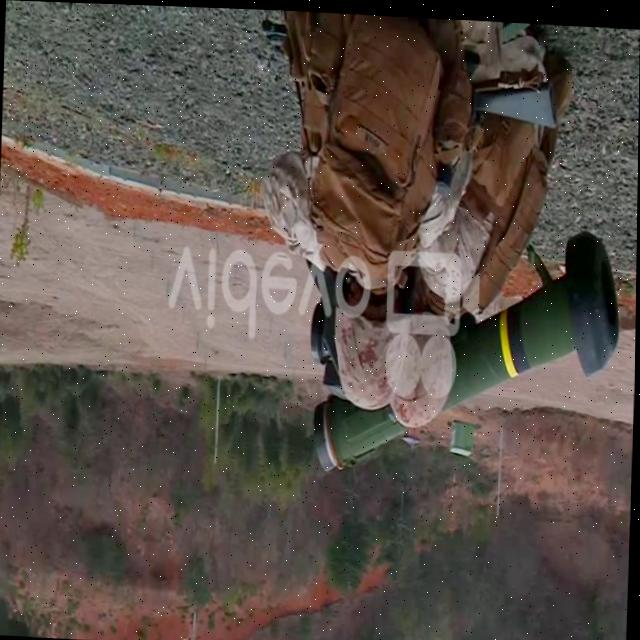rocket: (315, 215, 621, 484)
